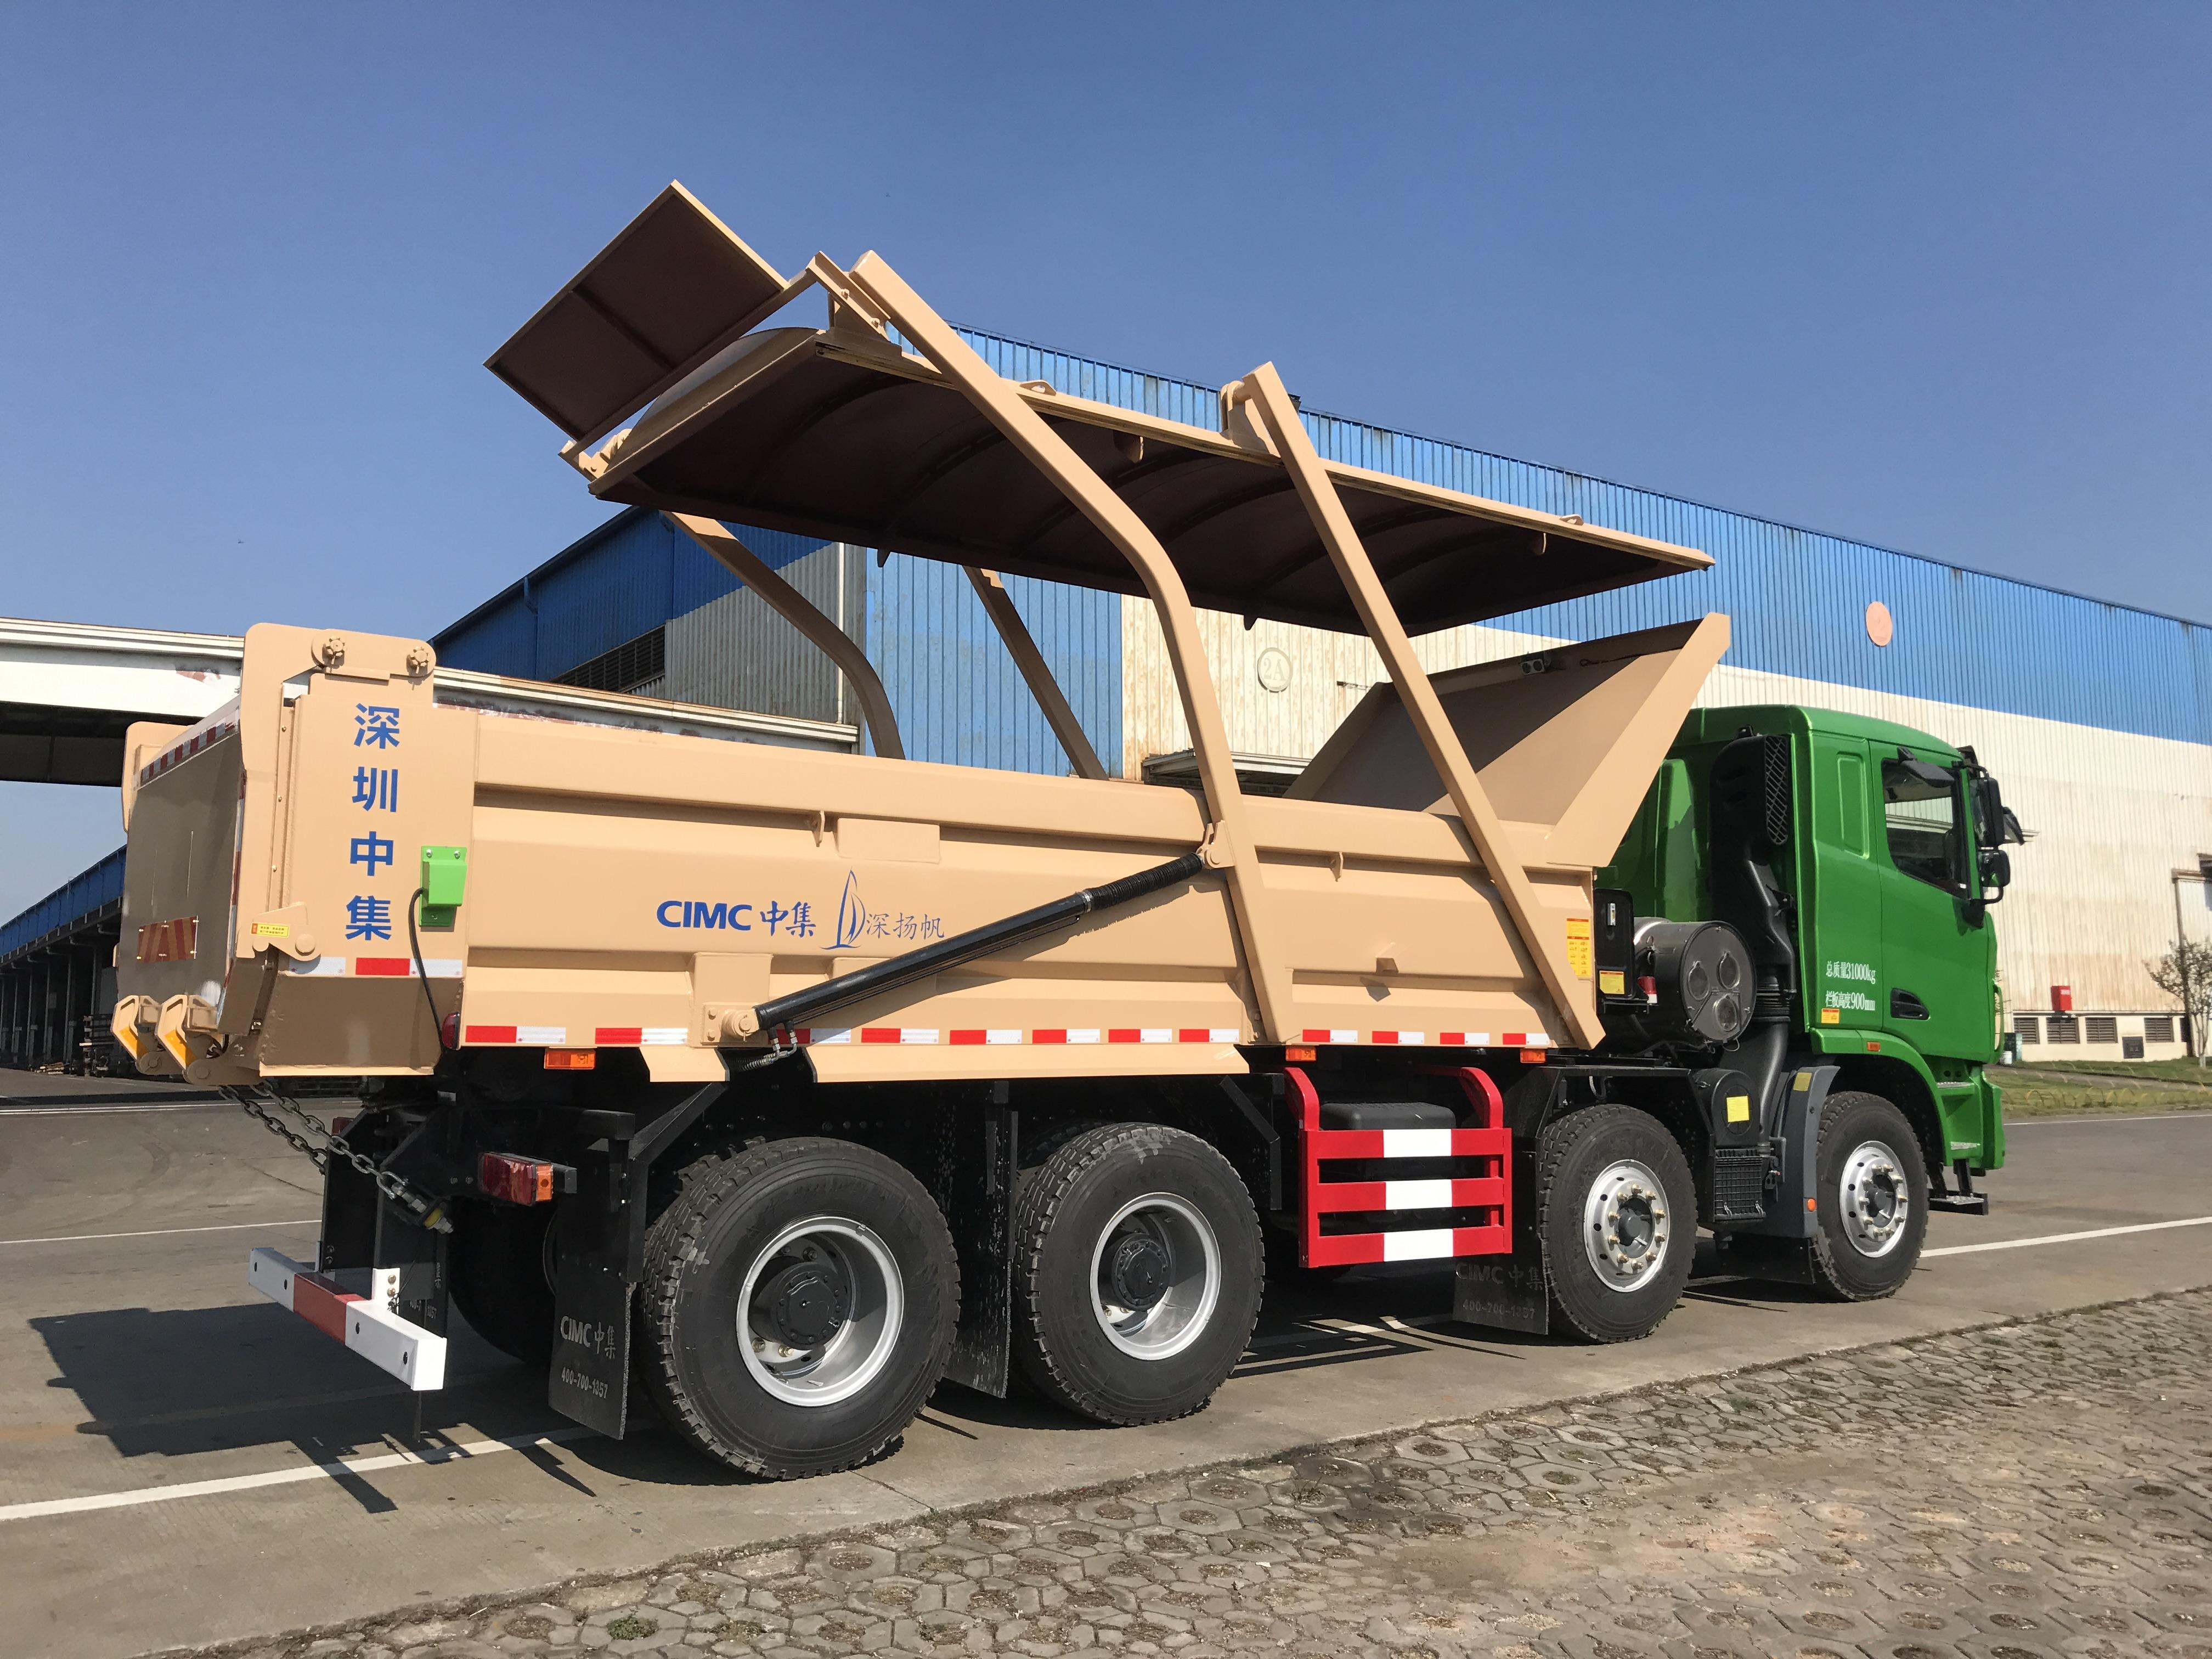truck: (150, 171, 2013, 1504)
